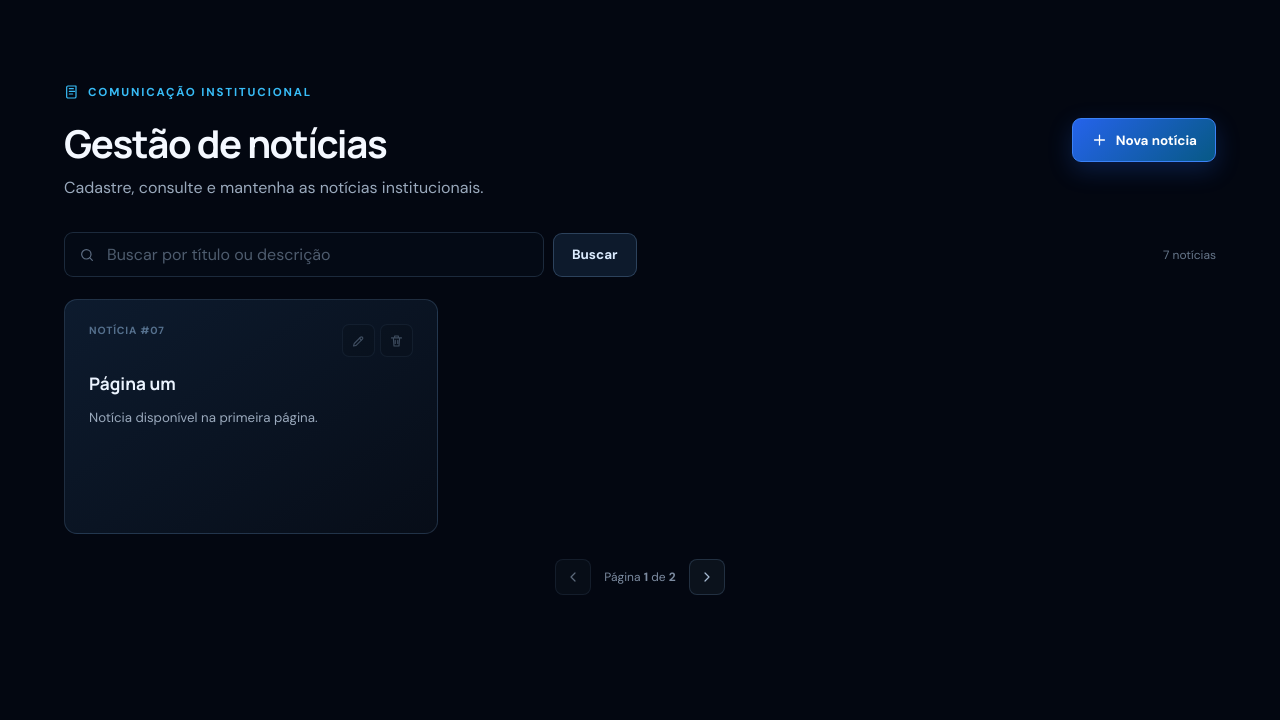
Test: Feature: consistência da paginação de notícias › Dado o último item da segunda página, quando excluir, então retorna à primeira página
Expected: the heading "Página um" is shown, [89,372,176,395]
Click the button named "Próxima página" at (707, 577), box [689,559,725,595]
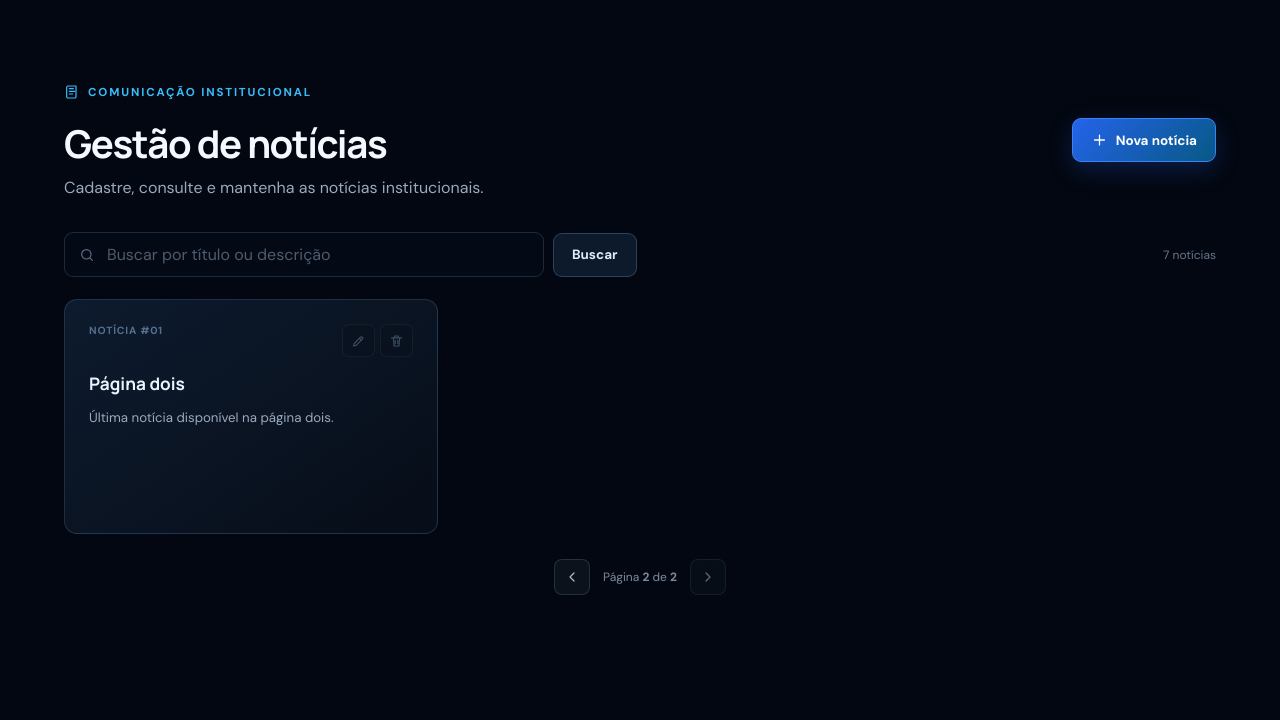
Expected: the heading "Página dois" is shown, [89,372,185,395]
Click the button named "Excluir Página dois" at (396, 340), box [380,324,413,357]
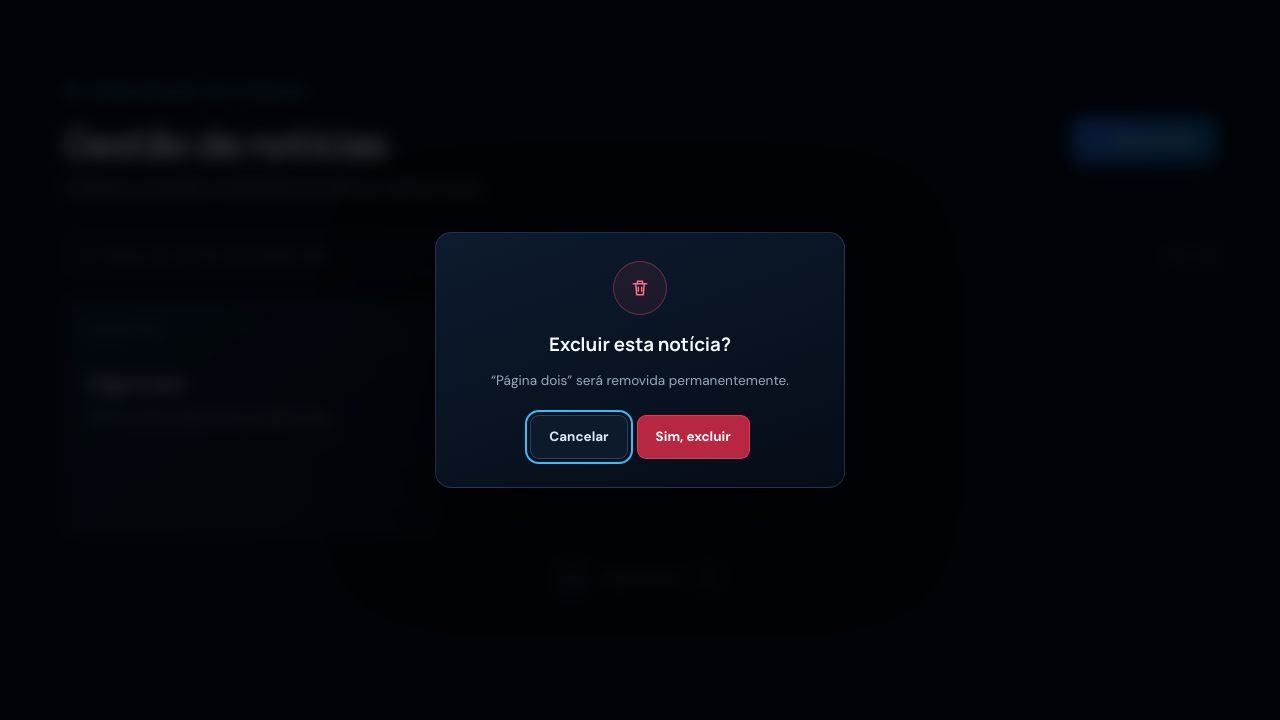
Click the button "Sim, excluir" at (693, 437), box [637,415,750,459]
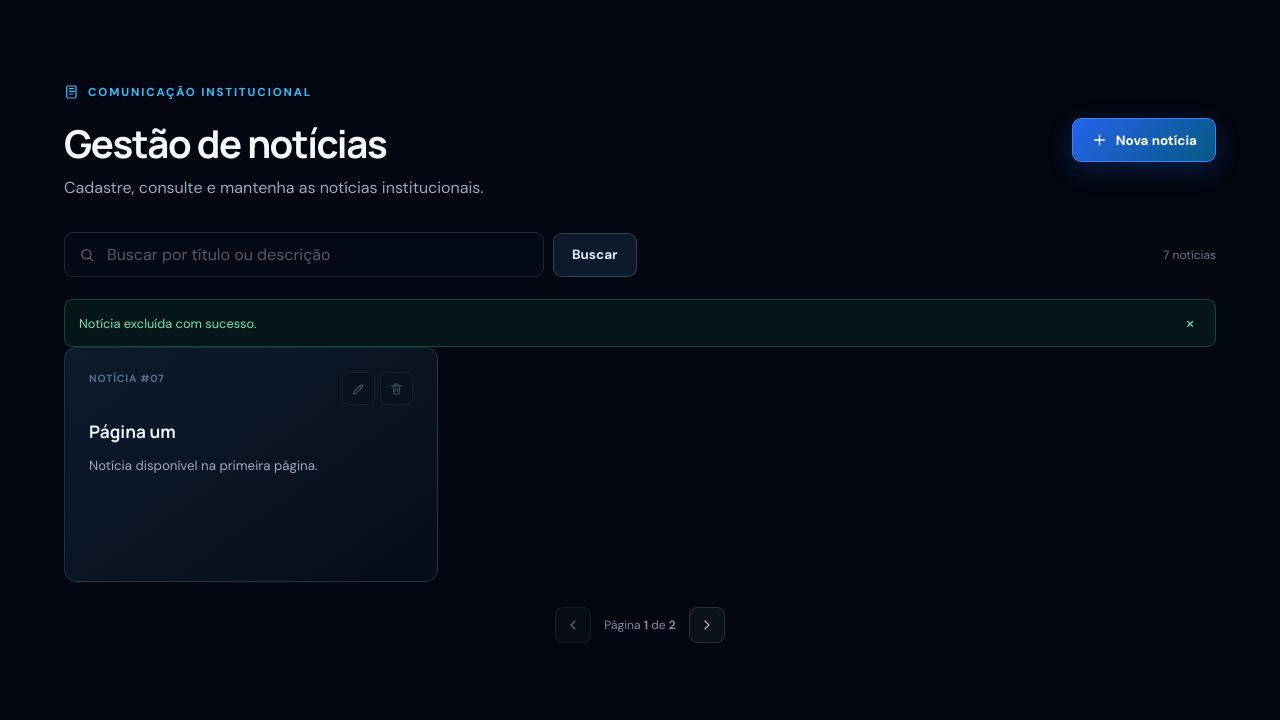
Expected: the text "Notícia excluída com sucesso." is shown, [79,314,257,332]
